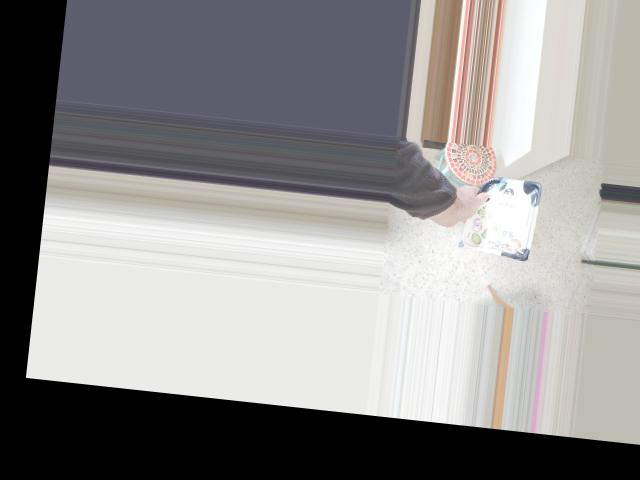cheese: (431, 169, 526, 258)
